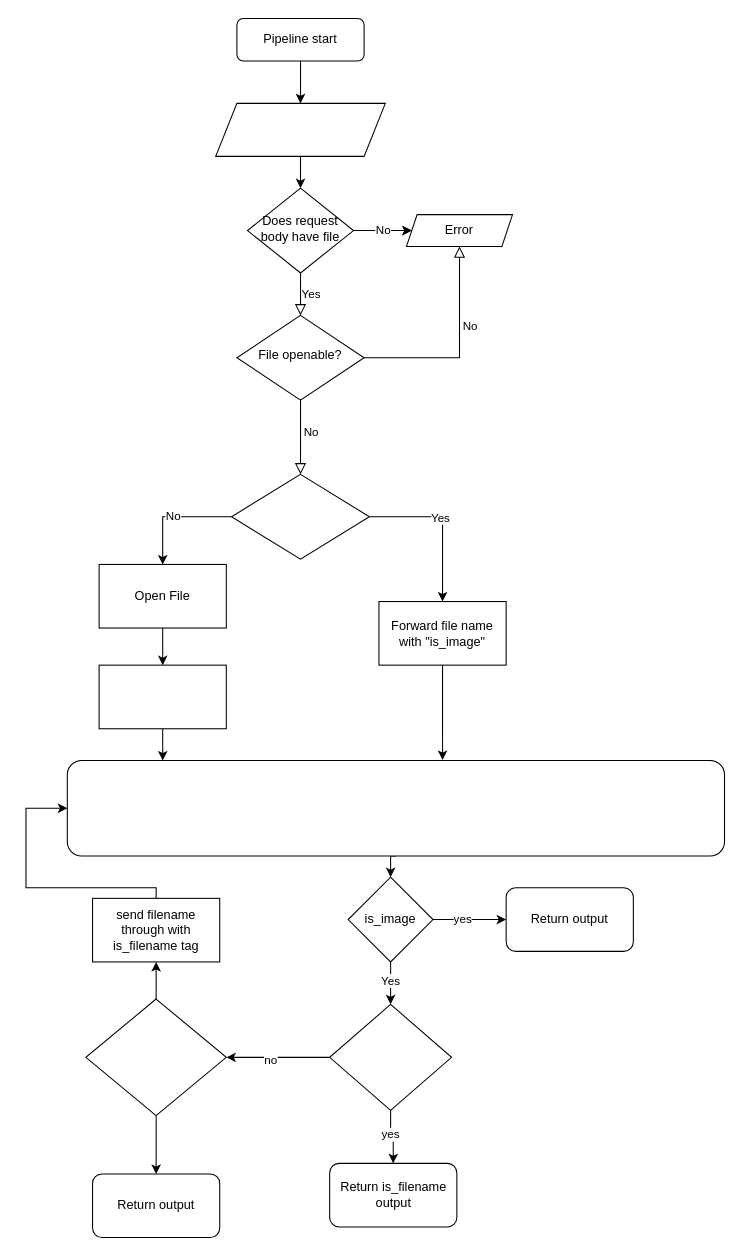
Some shapes in this 743 by 1256 pixel diagram are drawn without their labels. Each missing label, with the centre of its shape:
above x confidence?: point (155, 1057)
File is Image?: point (300, 516)
Forward file contents as Plain Text: point (162, 696)
is_filename: point (390, 1056)
One Shot NLP Classifier: point (395, 807)
Request /classify_file: point (300, 129)
